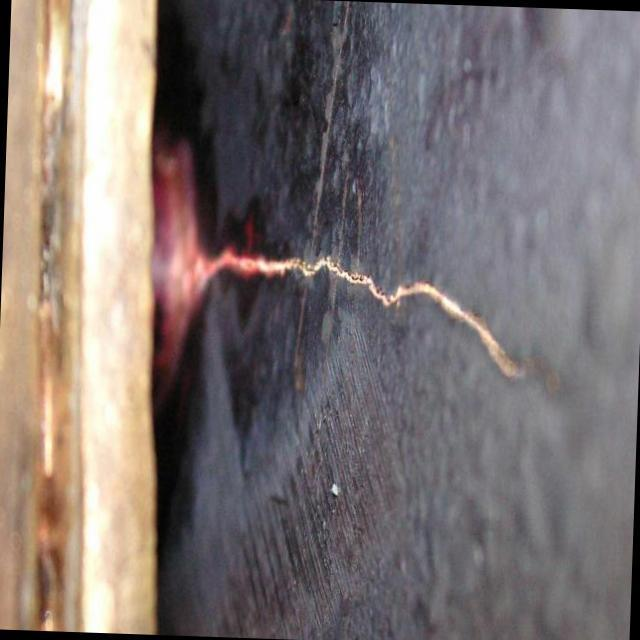defect: (191, 241, 563, 398)
